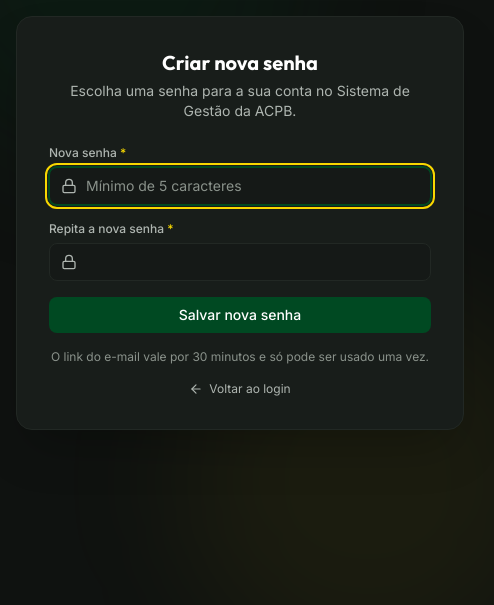
Test: RedefinirSenha › envia o token da URL junto da senha
The width and height of the screenshot is (494, 605).
In the password field labelled "Nova senha *": x=240, y=186 x1=49 y1=167 x2=431 y2=205, type "senhaforte1"
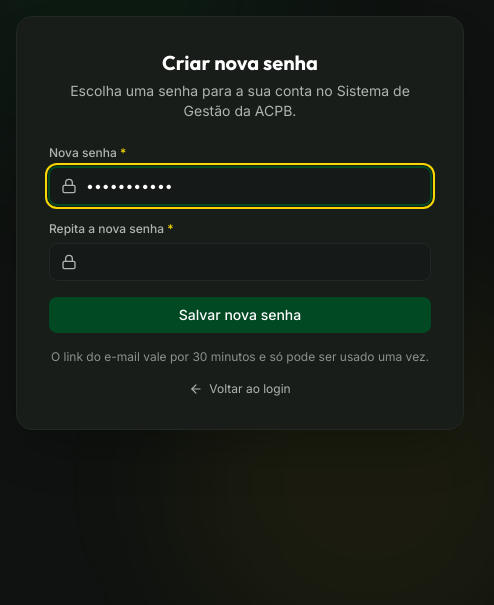
In the password field labelled "Repita a nova senha *": x=240, y=262 x1=49 y1=243 x2=431 y2=281, type "senhaforte1"
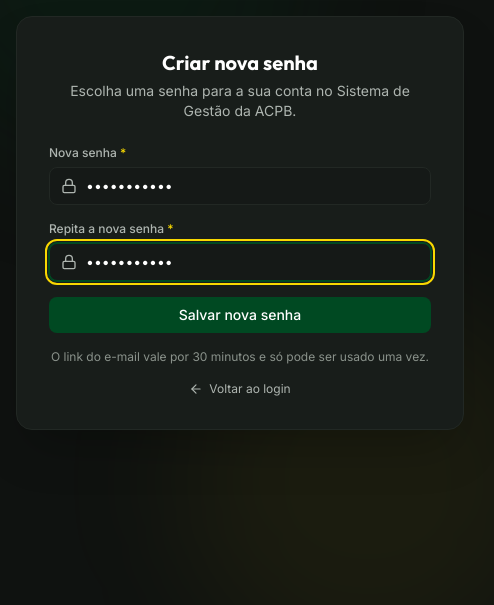
Click the button "Salvar nova senha": x=240, y=315 x1=49 y1=297 x2=431 y2=333
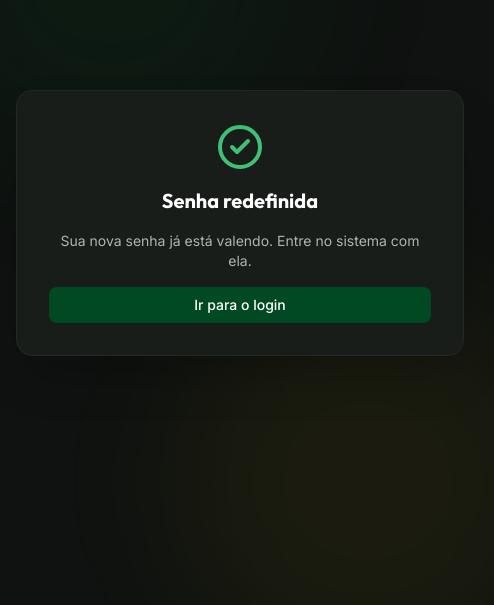
Check: the heading "Senha redefinida" is shown, box x1=162 y1=188 x2=318 y2=213
